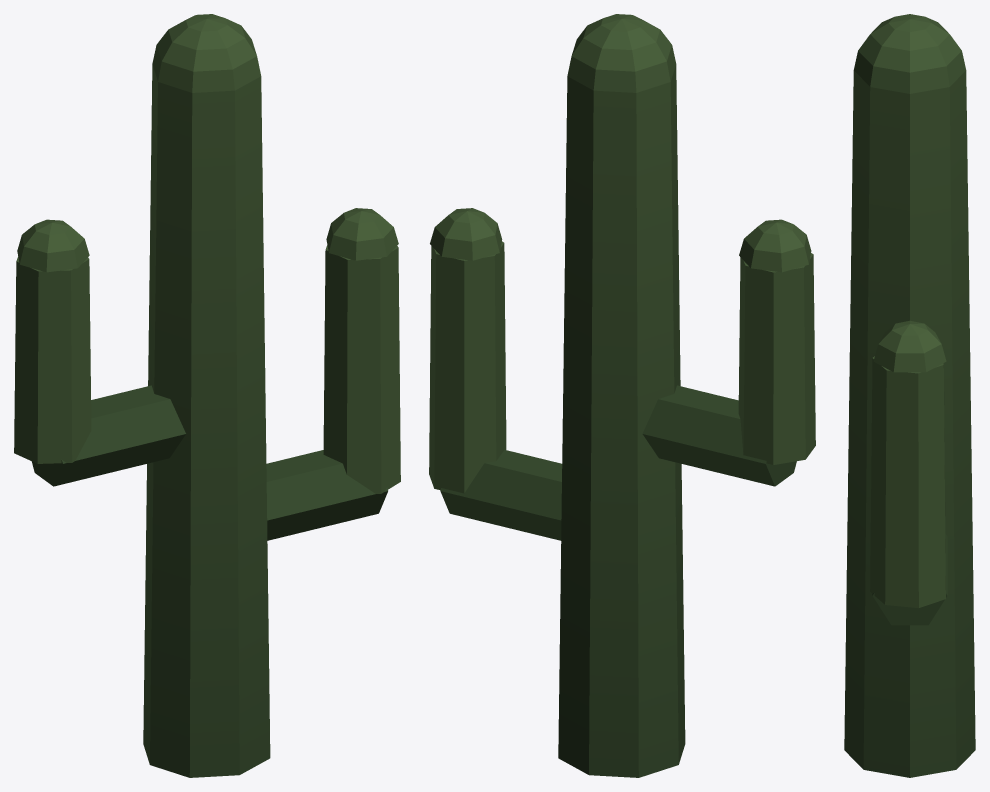
The model's file is cactus.glb.
3 renders of one model, left to right at view 1: azimuth 30°, elevation 25°; view 2: azimuth 150°, elevation 25°; view 3: azimuth 270°, elevation 25°, orthographic.
Visible parts, largest first — view 1: part_0; view 2: part_0; view 3: part_0.
Part boxes in pixels (<box>): part_0: <box>14,14,400,777</box>; part_0: <box>429,14,815,777</box>; part_0: <box>844,14,975,777</box>.
Size of the model in its own units: 0.9257 by 1.72 by 0.28.
